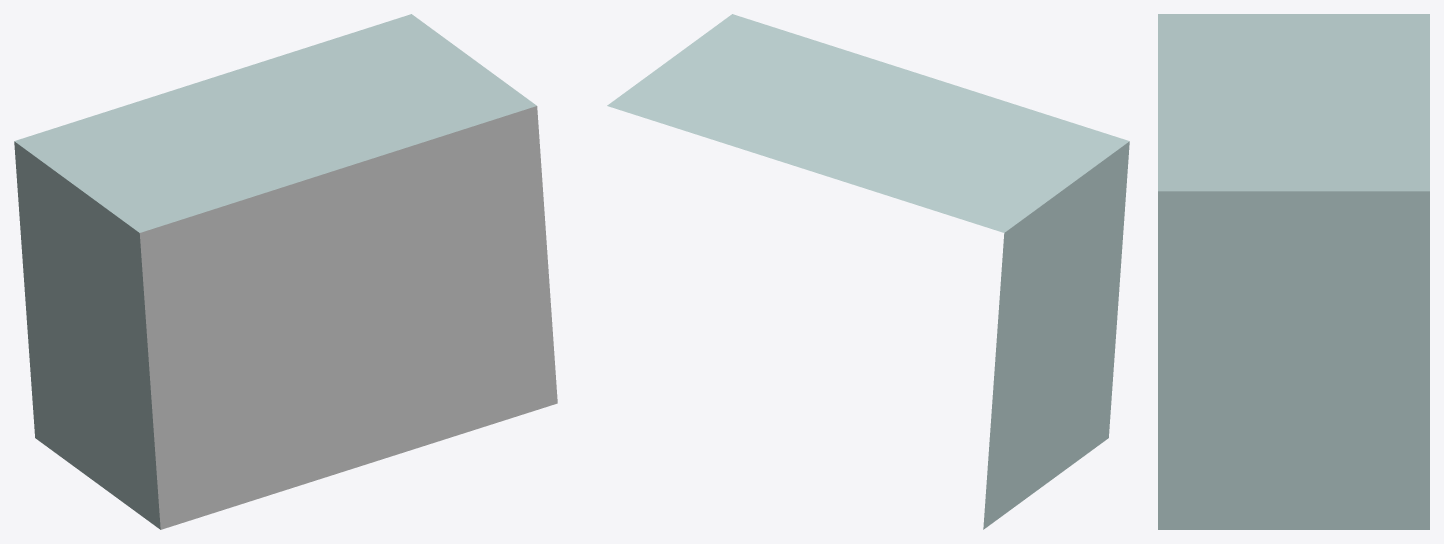
The picture shows the model from 3 angles, left to right: view 1: azimuth 30°, elevation 25°; view 2: azimuth 150°, elevation 25°; view 3: azimuth 270°, elevation 25°; orthographic projection. The views are drawn at different scales.
Visible parts, largest first — view 1: 0_3_2_2_1_0_0_1_1; view 2: 0_3_2_2_1_0_0_1_1; view 3: 0_3_2_2_1_0_0_1_1.
Boxes of the visible parts, left/top/right/bottom form: 0_3_2_2_1_0_0_1_1: left=14, top=14, right=557, bottom=529; 0_3_2_2_1_0_0_1_1: left=607, top=14, right=1129, bottom=529; 0_3_2_2_1_0_0_1_1: left=1158, top=14, right=1429, bottom=529.
Bounding box in the file's own units: 5.77 × 4.38 × 3.
